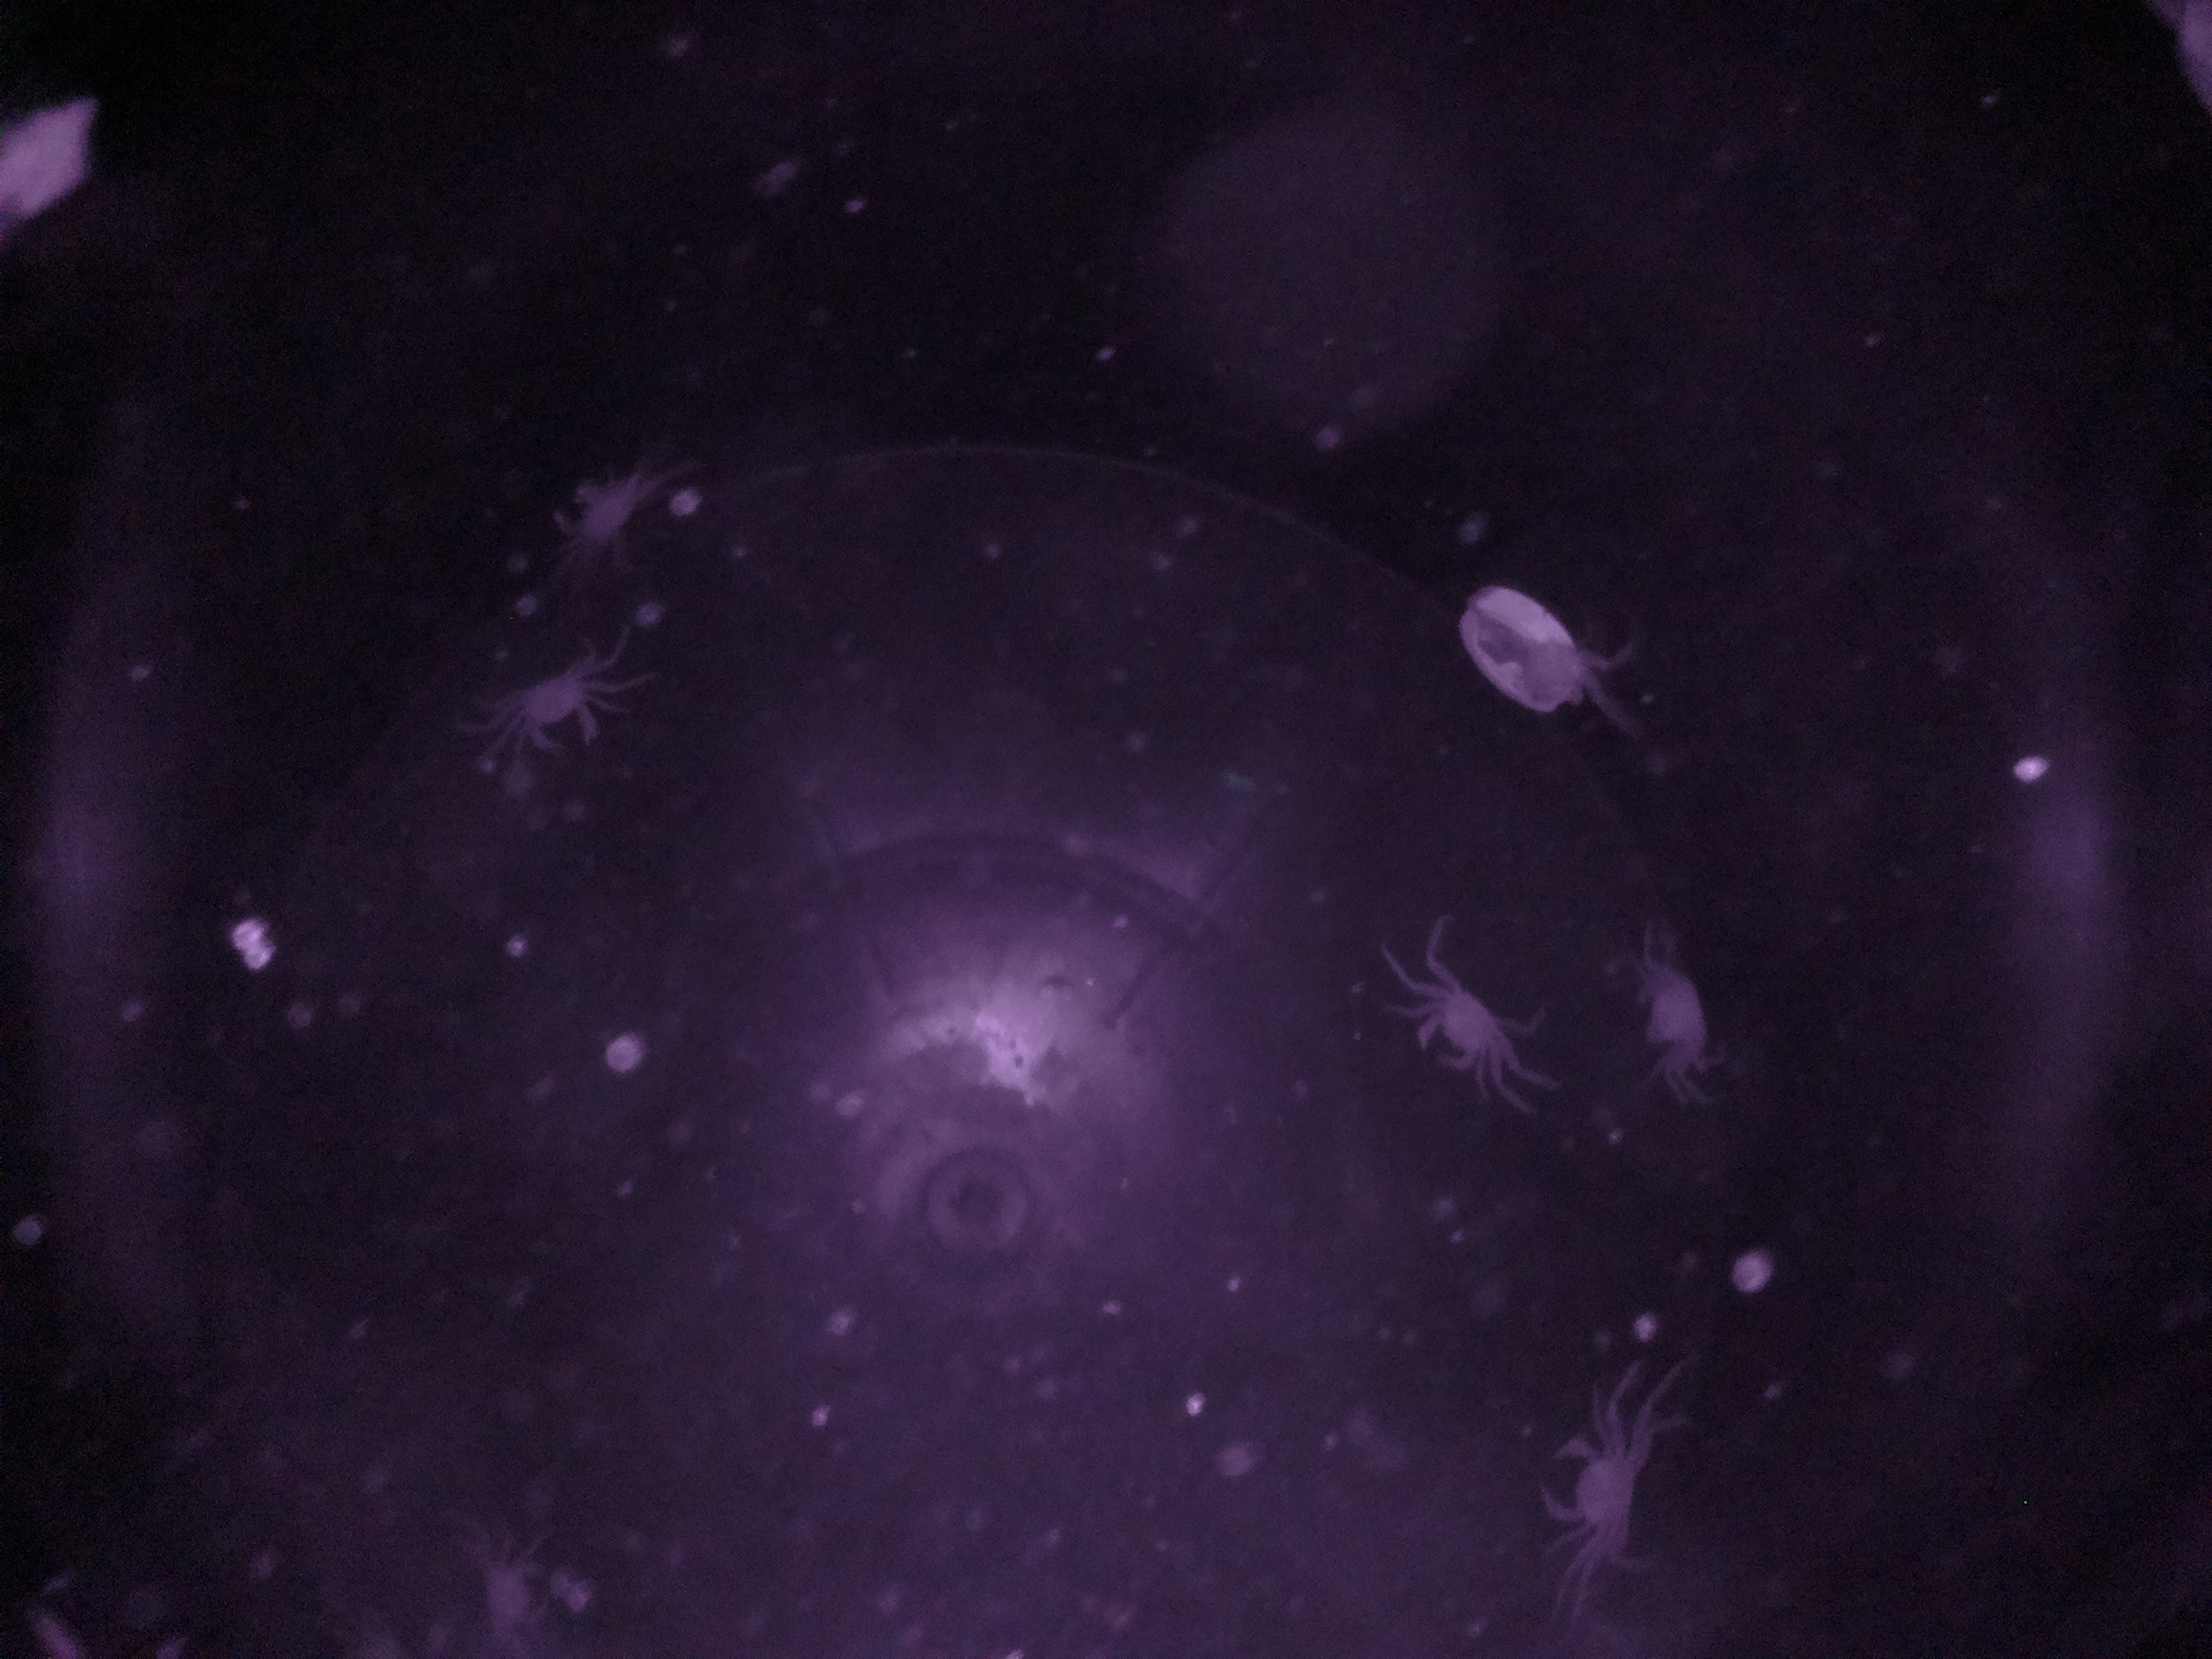Crab: (1514, 1406, 1674, 1554), (502, 643, 625, 777), (1609, 948, 1743, 1072), (1400, 958, 1522, 1086)
